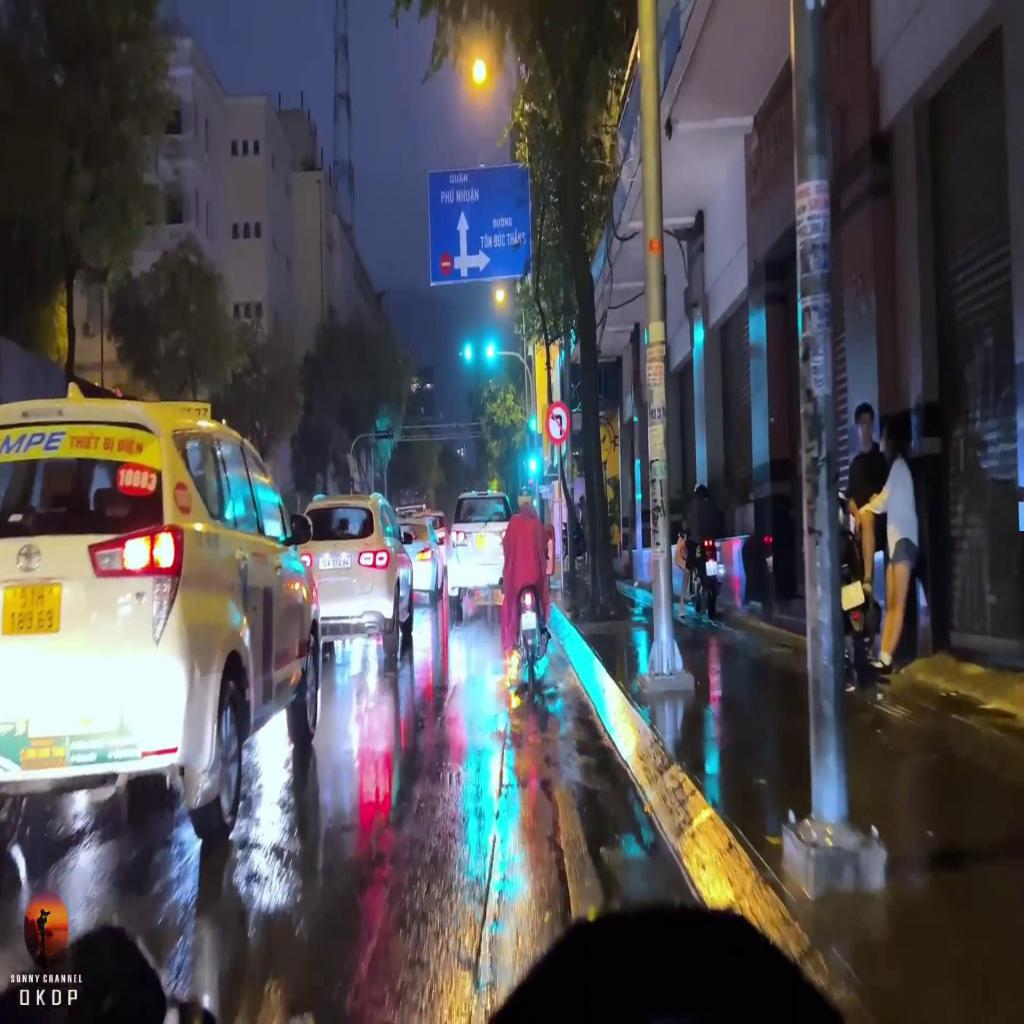cam_re_trai: (544, 401, 572, 449)
khac: (428, 164, 532, 289)
